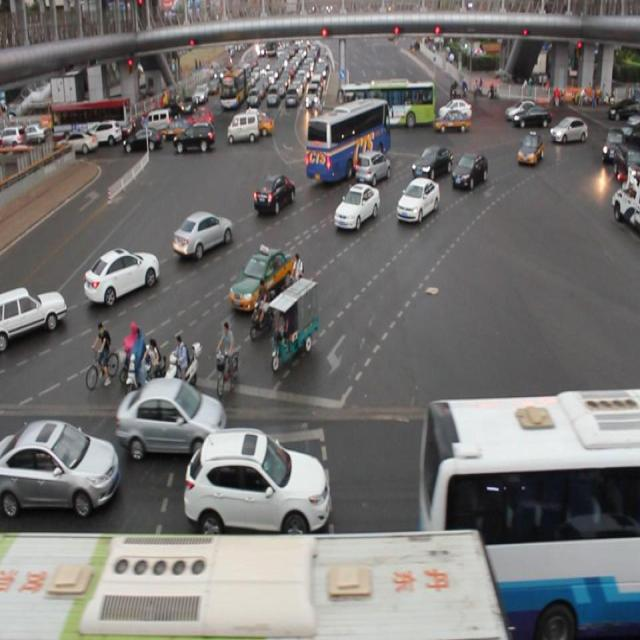car: (181, 428, 329, 533), (449, 424, 565, 538), (0, 421, 120, 516), (116, 377, 227, 461), (1, 278, 70, 353), (82, 243, 159, 305), (230, 247, 296, 310), (172, 206, 233, 260), (333, 184, 379, 231), (397, 179, 439, 224), (252, 173, 294, 212), (354, 148, 392, 186), (451, 152, 488, 190), (411, 146, 451, 181), (549, 112, 587, 144), (516, 131, 543, 166)
van: (1, 524, 507, 640), (424, 378, 640, 640), (306, 100, 392, 182)
